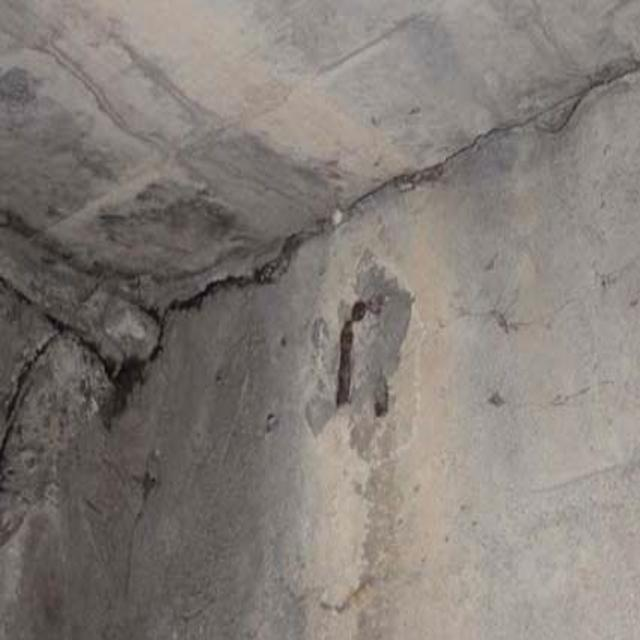spalling: (10, 272, 156, 468), (308, 267, 423, 450)
